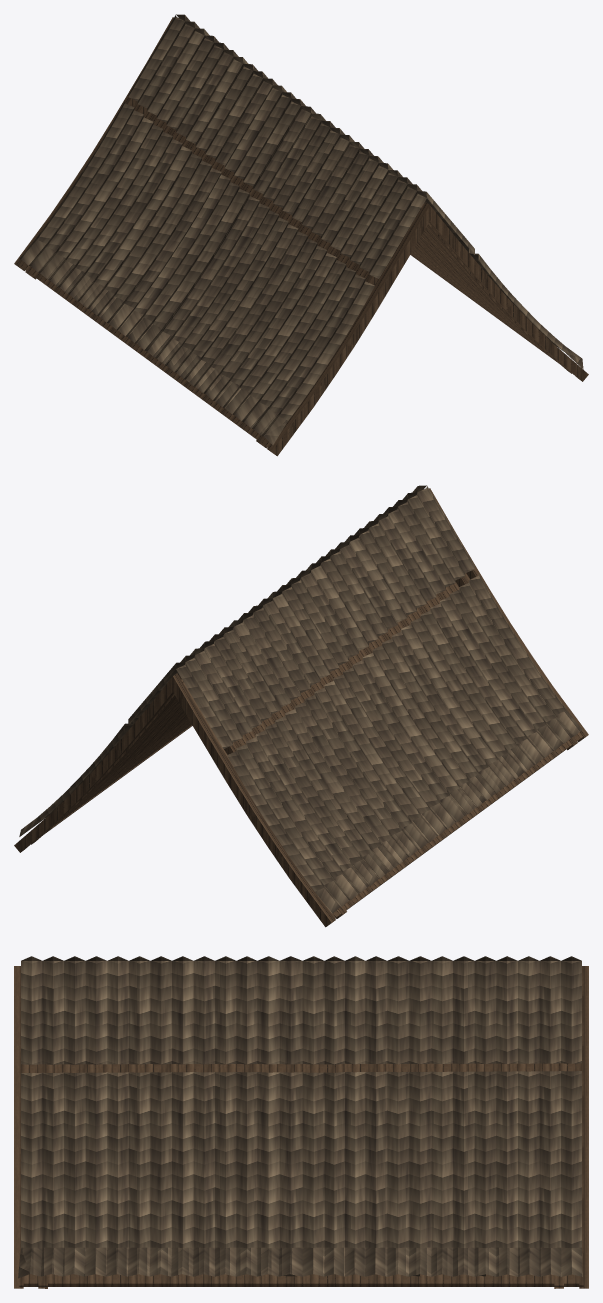
Rendered from Roof_Shingle_8x12.gltf.
The picture shows the model from 3 angles, top to bottom: view 1: azimuth 30°, elevation 25°; view 2: azimuth 150°, elevation 25°; view 3: azimuth 270°, elevation 25°; orthographic projection. The views are drawn at different scales.
Parts seen in each view (by area): view 1: Roof_Shingle_8x12; view 2: Roof_Shingle_8x12; view 3: Roof_Shingle_8x12.
Part boxes in pixels (left/top/right/bottom): Roof_Shingle_8x12: left=14, top=14, right=588, bottom=456; Roof_Shingle_8x12: left=14, top=485, right=588, bottom=927; Roof_Shingle_8x12: left=14, top=956, right=588, bottom=1288.
Size of the model in its own units: 9.95 by 6.58 by 13.89.
Materials: 2 (2 with a texture image).
